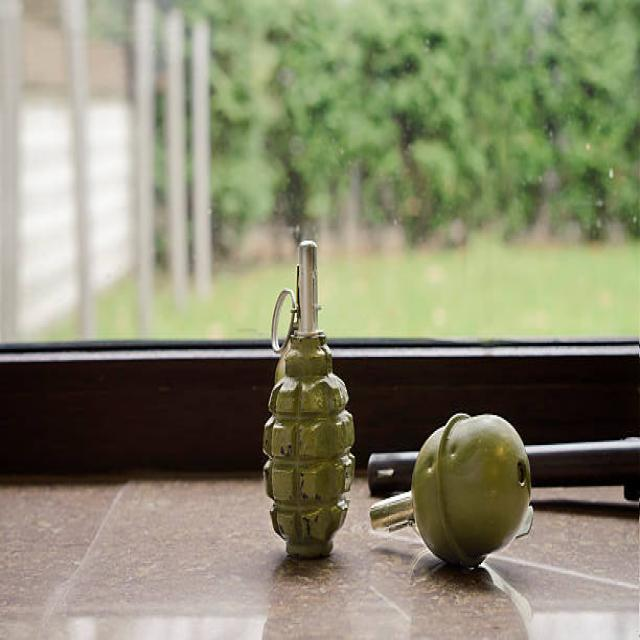grenade: (258, 237, 362, 566), (370, 405, 542, 578)
